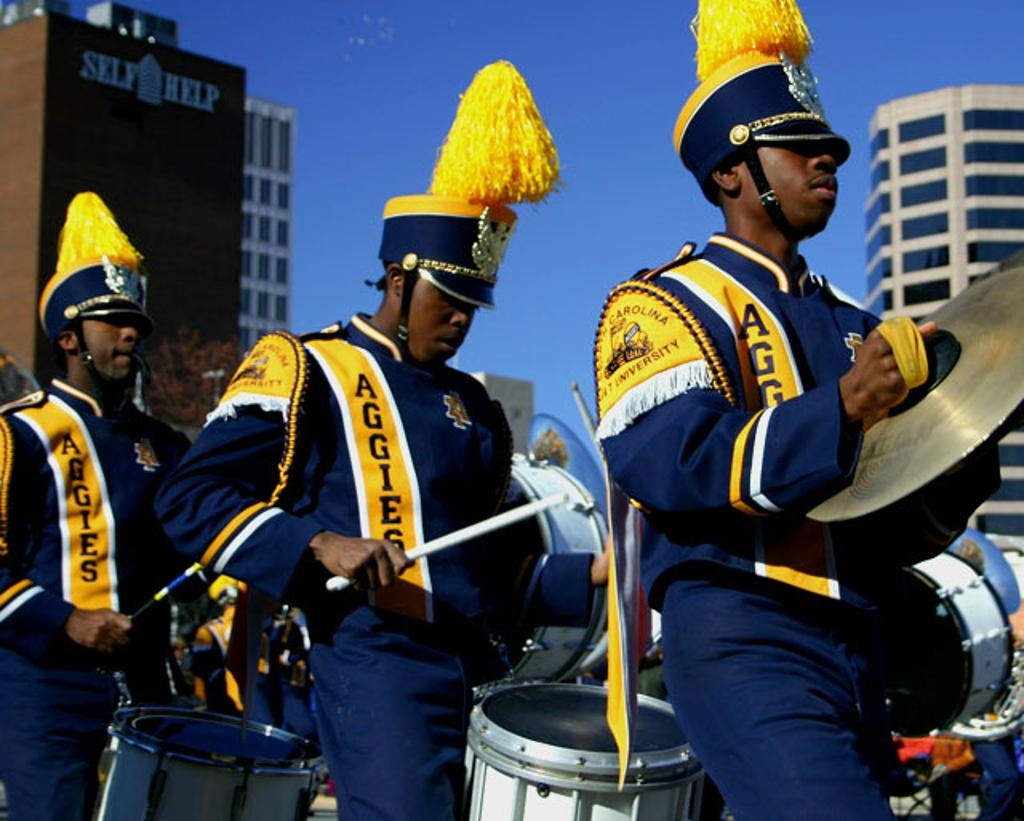human_face: (734, 112, 836, 226), (404, 266, 478, 360), (80, 294, 142, 380)
